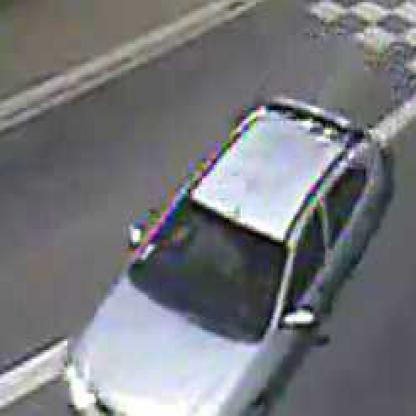car: (58, 91, 402, 415)
